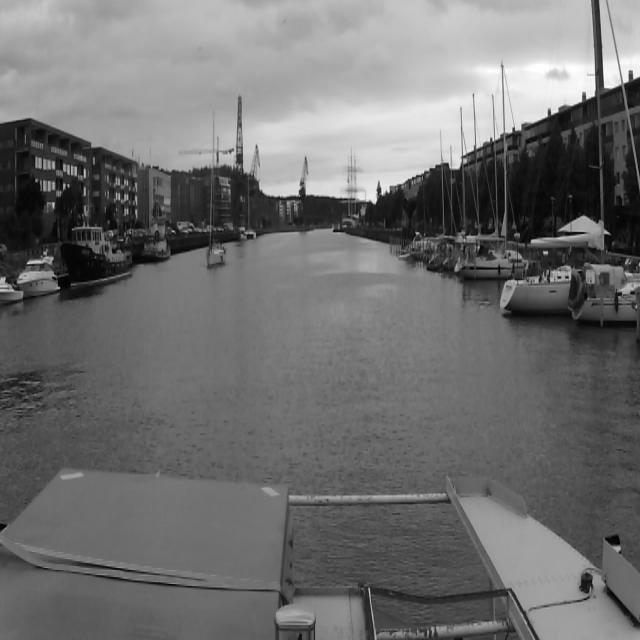ship: (498, 6, 628, 314), (455, 65, 513, 286), (59, 228, 132, 292), (338, 136, 366, 235), (209, 117, 225, 267), (19, 254, 59, 298), (236, 161, 253, 244), (143, 222, 171, 263), (239, 227, 246, 239)
